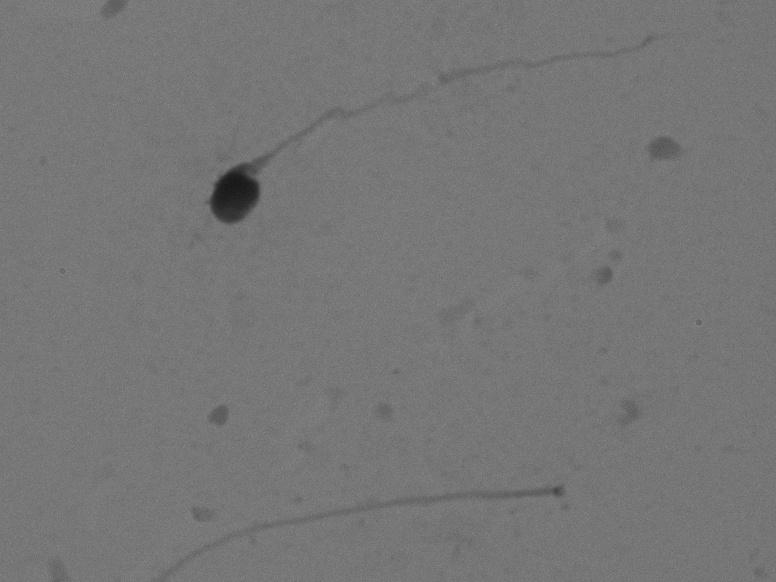Abnormal: (165, 34, 720, 240)
